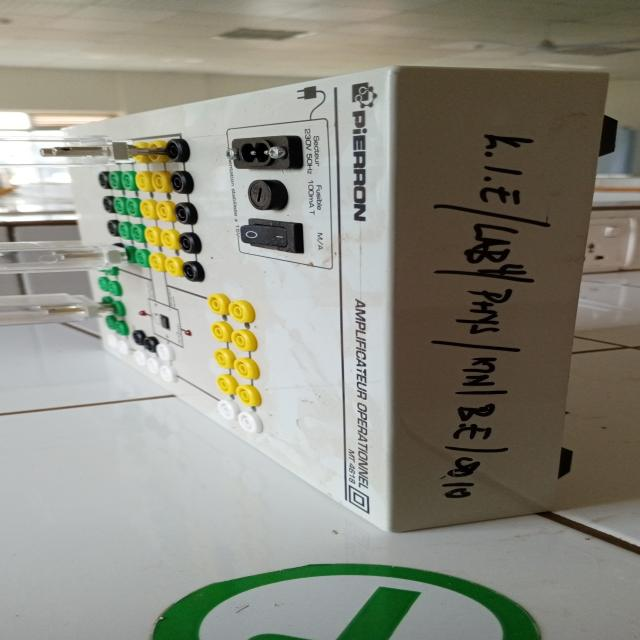Operational Amplifier Board: (21, 52, 611, 545)
